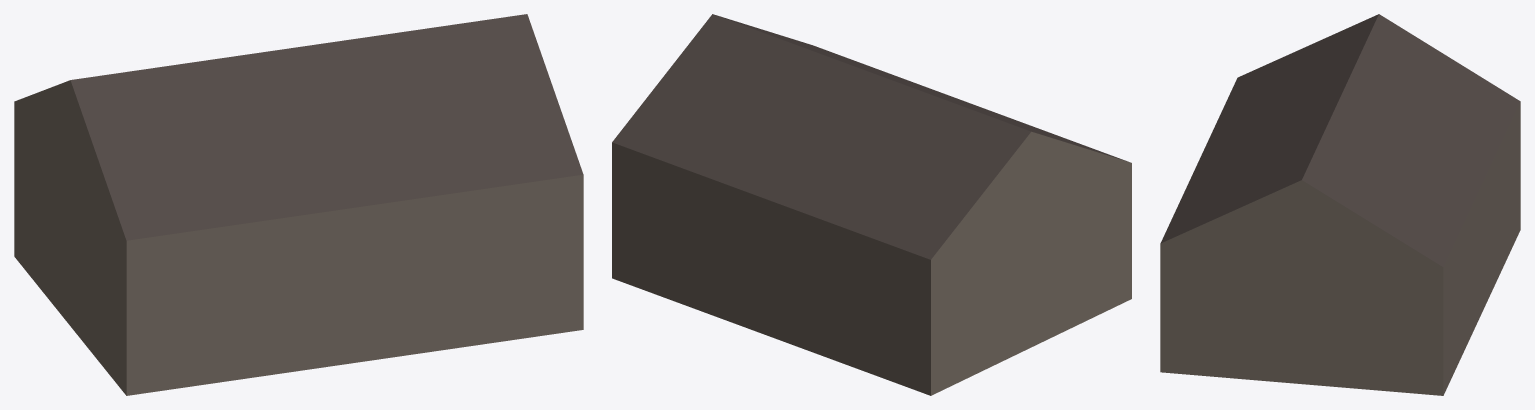
The picture shows the model from 3 angles, left to right: view 1: azimuth 30°, elevation 25°; view 2: azimuth 150°, elevation 25°; view 3: azimuth 270°, elevation 25°; orthographic projection. The views are drawn at different scales.
Visible parts, largest first — view 1: HP-w859082547; view 2: HP-w859082547; view 3: HP-w859082547.
Part boxes in pixels (x1,y1,x2,y2): HP-w859082547: (14,14,583,395); HP-w859082547: (612,14,1131,395); HP-w859082547: (1160,14,1520,395).
Size of the model in its own units: 18.97 by 9.52 by 15.22.
